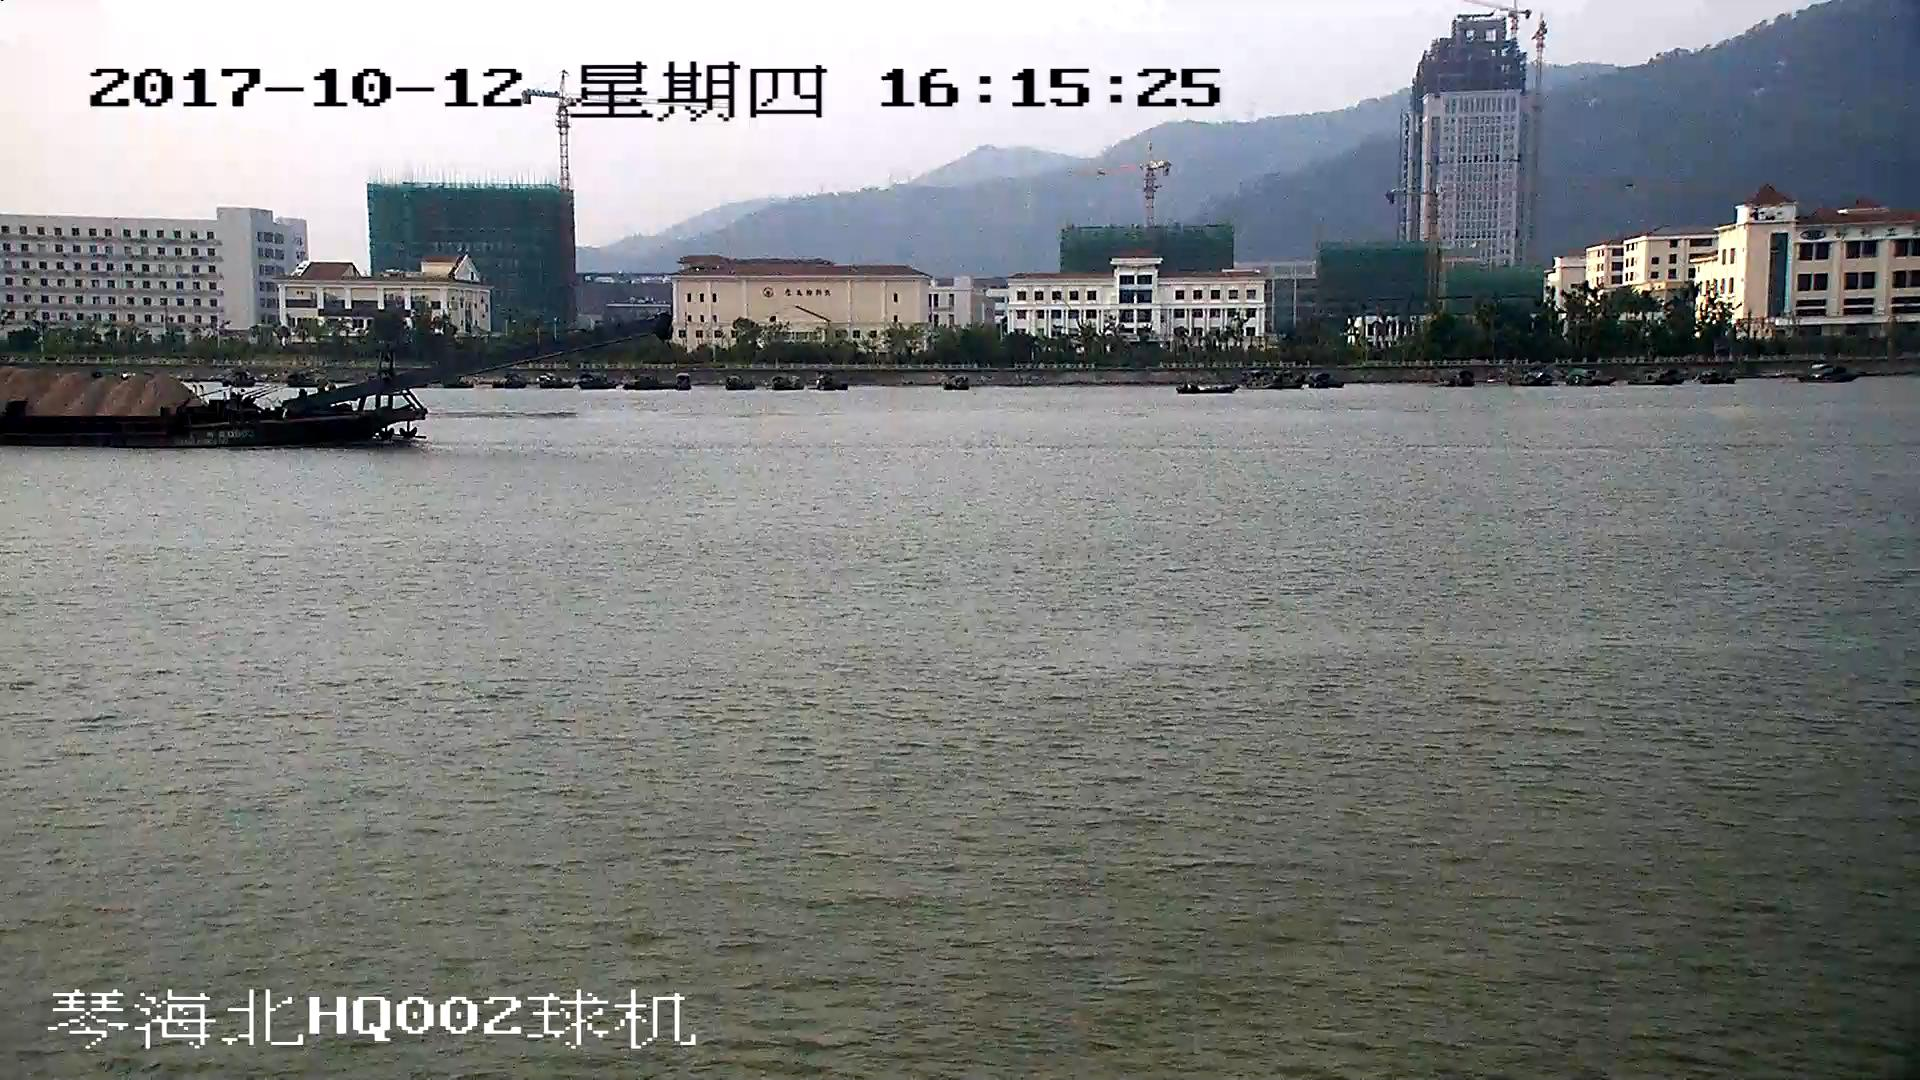ore carrier: (1, 319, 660, 448)
